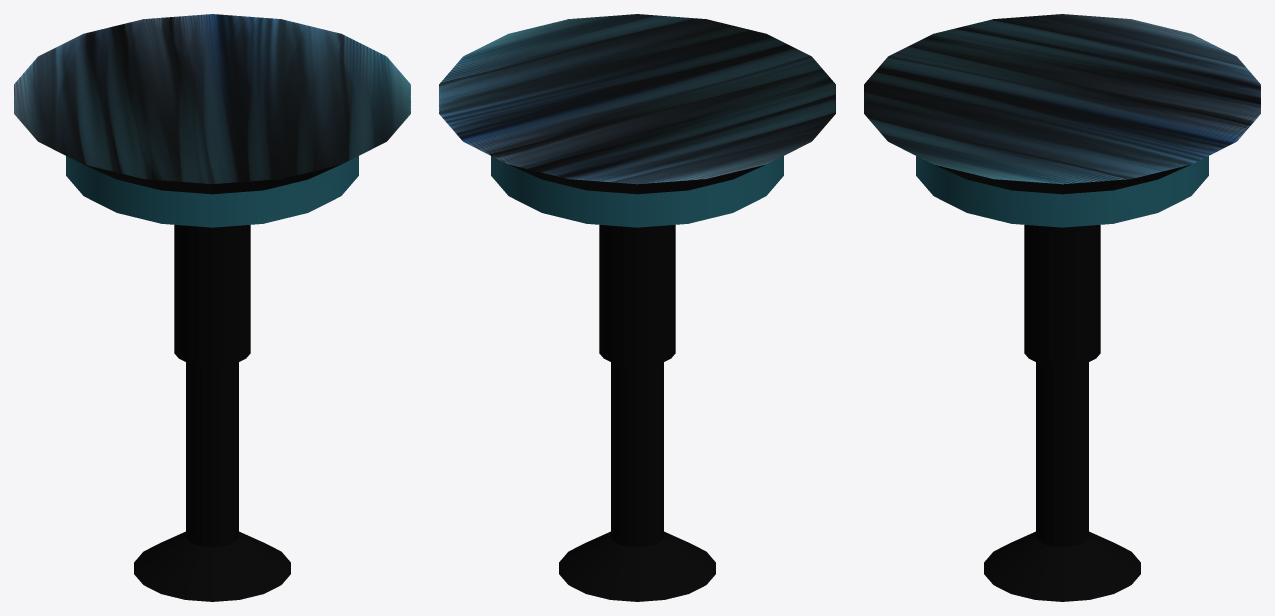
Rendered from SM_TableRound.fbx.
3 views of the same model, side by side, from view 1: azimuth 30°, elevation 25°; view 2: azimuth 150°, elevation 25°; view 3: azimuth 270°, elevation 25° (orthographic).
Parts seen in each view (by area): view 1: Cylinder002; view 2: Cylinder002; view 3: Cylinder002.
Boxes of the visible parts, left/top/right/bottom form: Cylinder002: left=14, top=14, right=410, bottom=601; Cylinder002: left=439, top=14, right=835, bottom=601; Cylinder002: left=864, top=14, right=1260, bottom=601.
Bounding box in the file's own units: 1749 × 2247 × 1722.
1 material, 1 textured.
